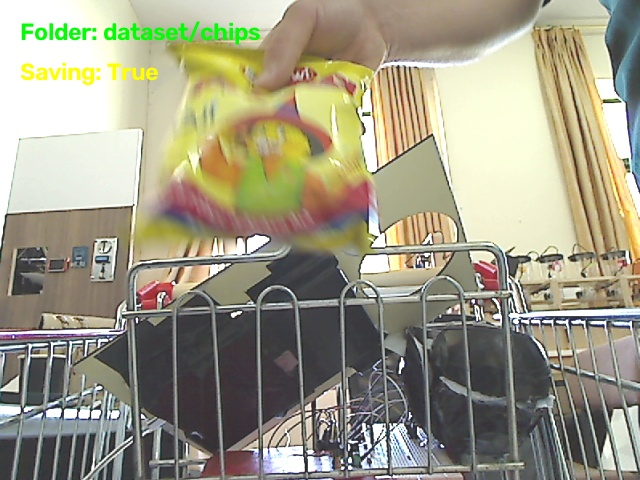chips: (140, 43, 375, 251)
